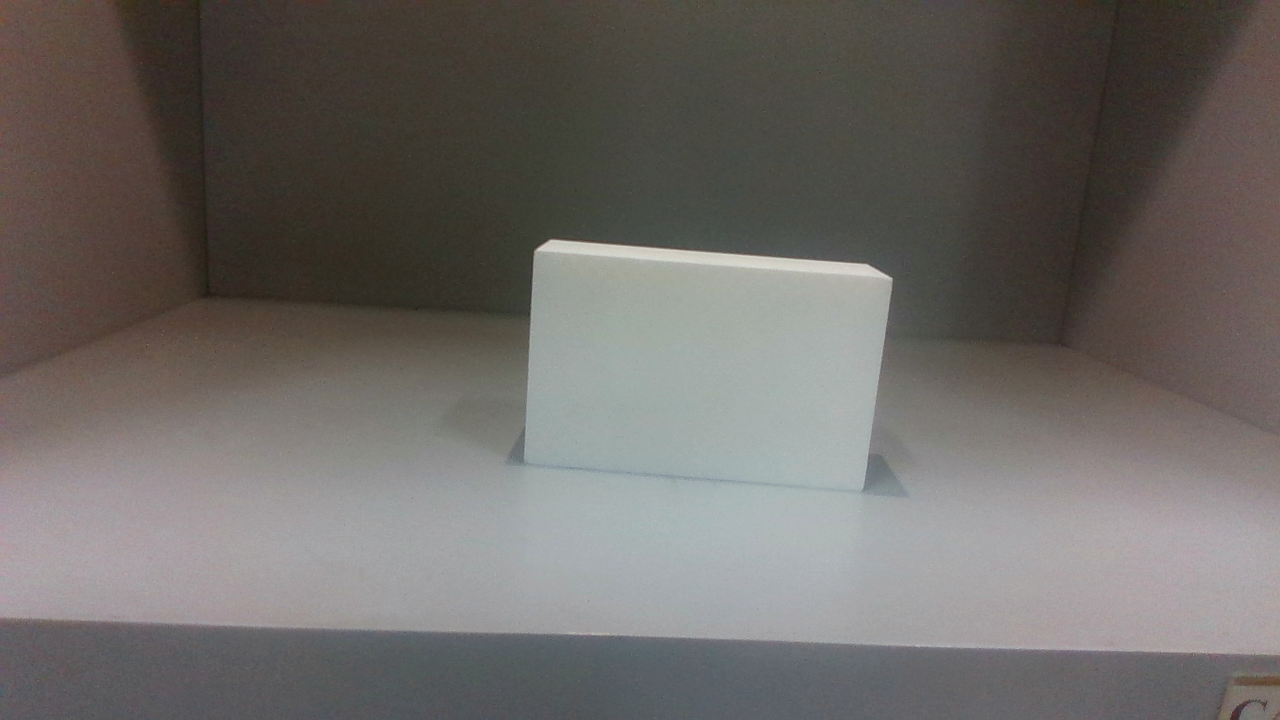Retangulo: (524, 240, 892, 489)
